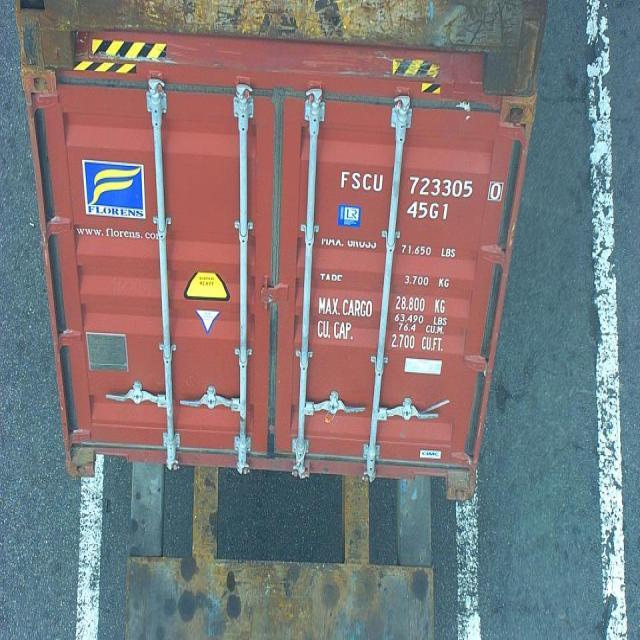ISO: (406, 199, 451, 221)
container_number: (346, 172, 502, 200)
